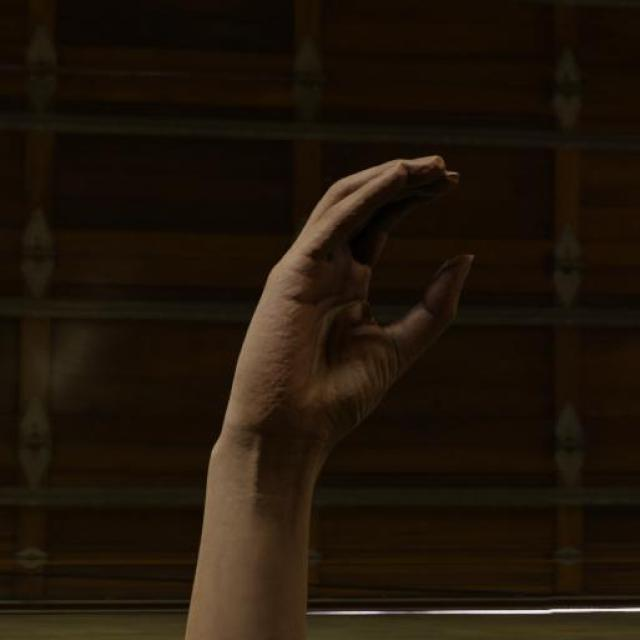C: (220, 149, 480, 465)
